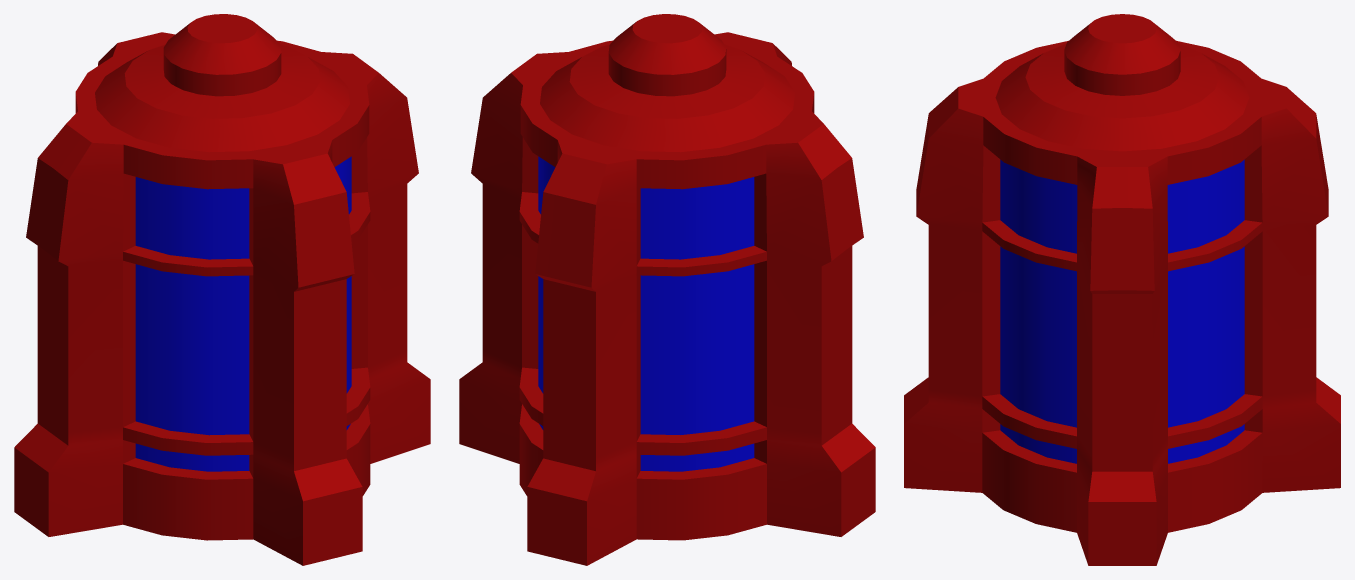
Rendered from SM_ScifiCanister.fbx.
3 views of the same model, side by side, from view 1: azimuth 30°, elevation 25°; view 2: azimuth 150°, elevation 25°; view 3: azimuth 270°, elevation 25° (orthographic).
Parts seen in each view (by area): view 1: pCylinder14; view 2: pCylinder14; view 3: pCylinder14.
Part boxes in pixels (<box>): pCylinder14: <box>14,14,430,565</box>; pCylinder14: <box>459,14,875,565</box>; pCylinder14: <box>904,14,1340,565</box>.
Size of the model in its own units: 3.42 by 3.84 by 3.42.
